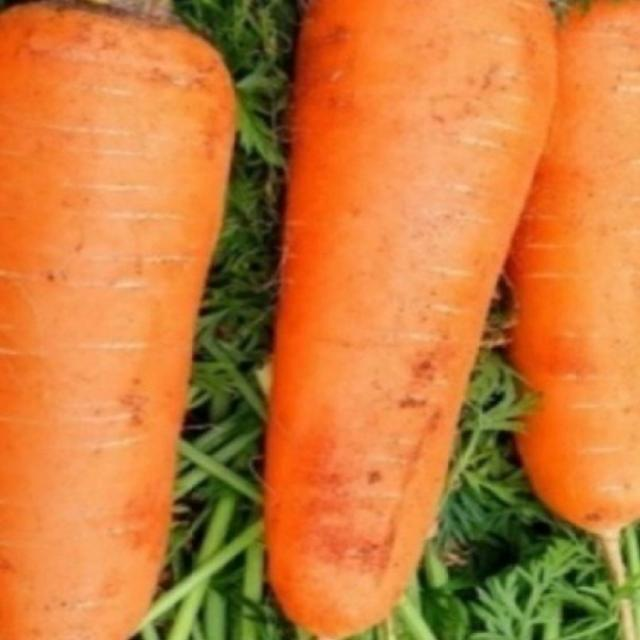carrot: (260, 1, 558, 638), (0, 0, 246, 640)
